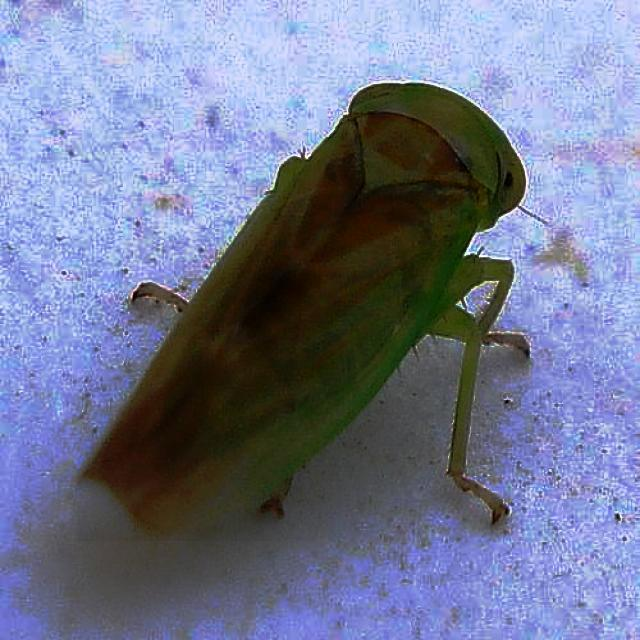green-leafhopper: (77, 83, 529, 541)
